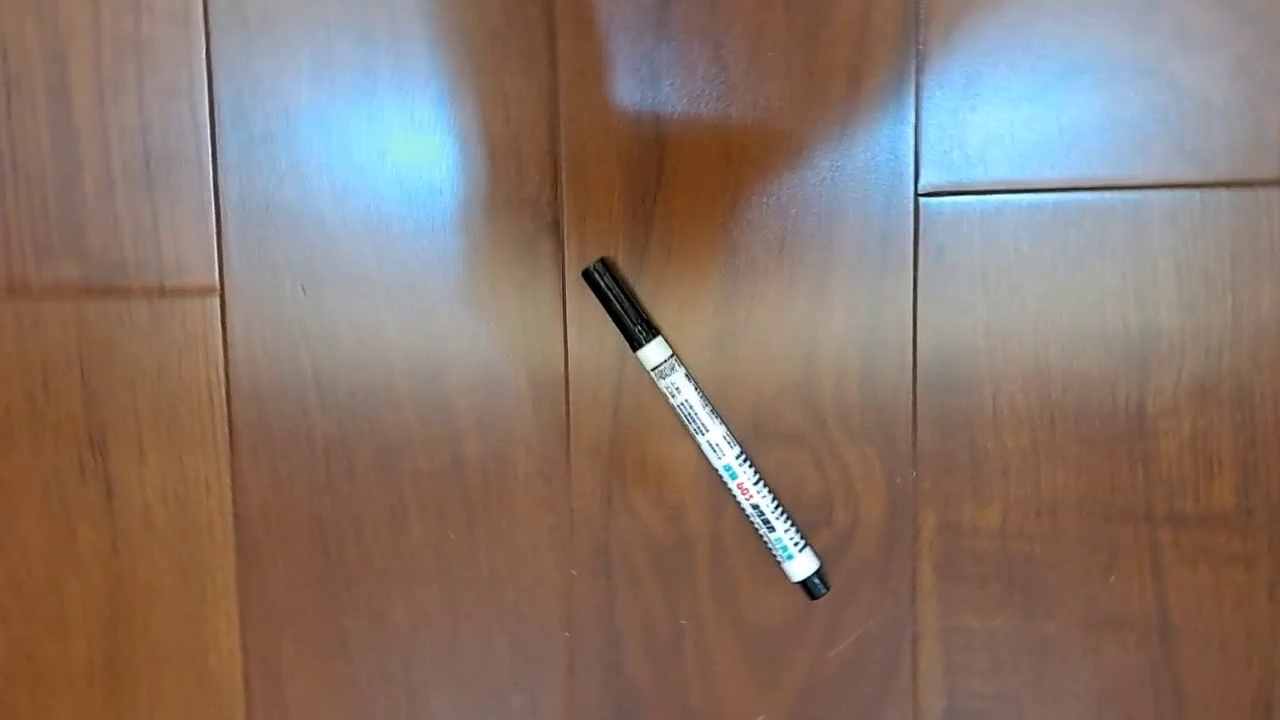pen: (580, 254, 832, 602)
